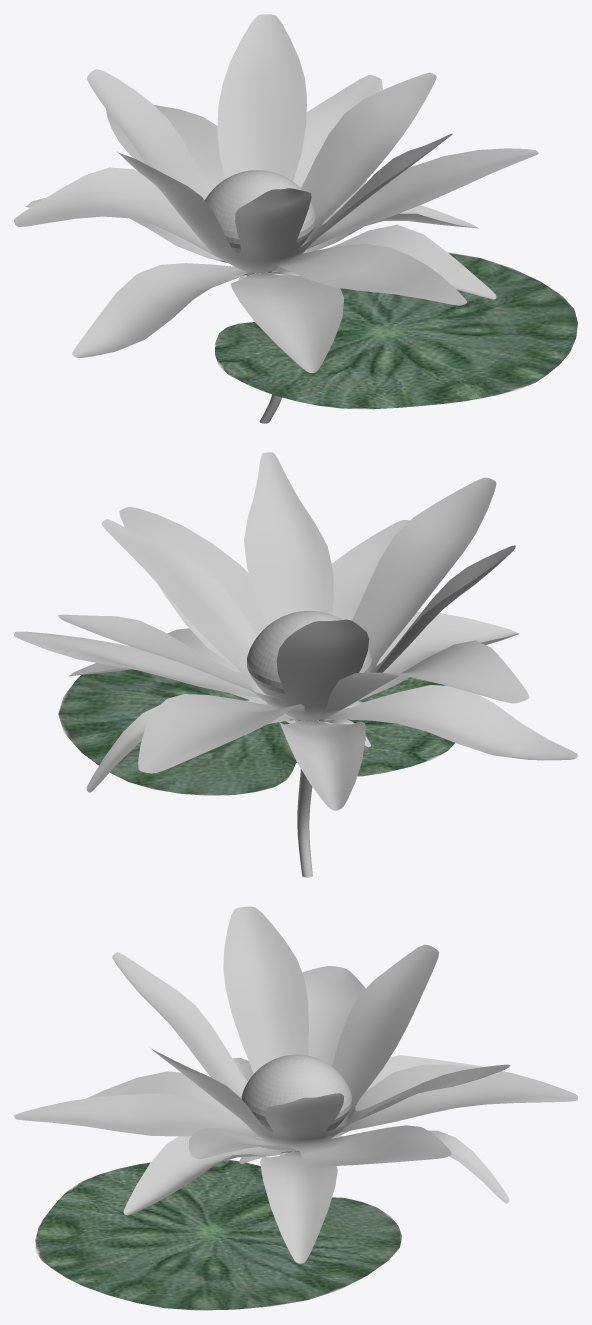
The model's file is lotus.fbx.
3 views of the same model, one above another, from view 1: azimuth 30°, elevation 25°; view 2: azimuth 150°, elevation 25°; view 3: azimuth 270°, elevation 25° (orthographic). The views are drawn at different scales.
Visible parts, largest first — view 1: 12_Pcs_Lotus_Leaves_High_Quality_Durable_Prime_Sturdy_Lotus.; view 2: 12_Pcs_Lotus_Leaves_High_Quality_Durable_Prime_Sturdy_Lotus.; view 3: 12_Pcs_Lotus_Leaves_High_Quality_Durable_Prime_Sturdy_Lotus..
Part boxes in pixels (x1,y1,x2,y2): 12_Pcs_Lotus_Leaves_High_Quality_Durable_Prime_Sturdy_Lotus.: (14, 14, 577, 423); 12_Pcs_Lotus_Leaves_High_Quality_Durable_Prime_Sturdy_Lotus.: (14, 452, 577, 877); 12_Pcs_Lotus_Leaves_High_Quality_Durable_Prime_Sturdy_Lotus.: (14, 906, 577, 1310).
Bounding box in the file's own units: 21.12 × 13.92 × 23.03.
